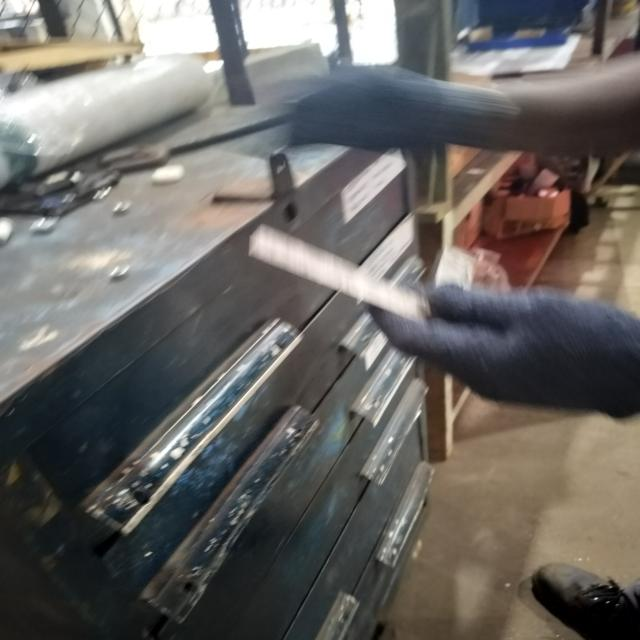Gloves-Detection: (374, 270, 639, 418), (263, 62, 505, 159)
